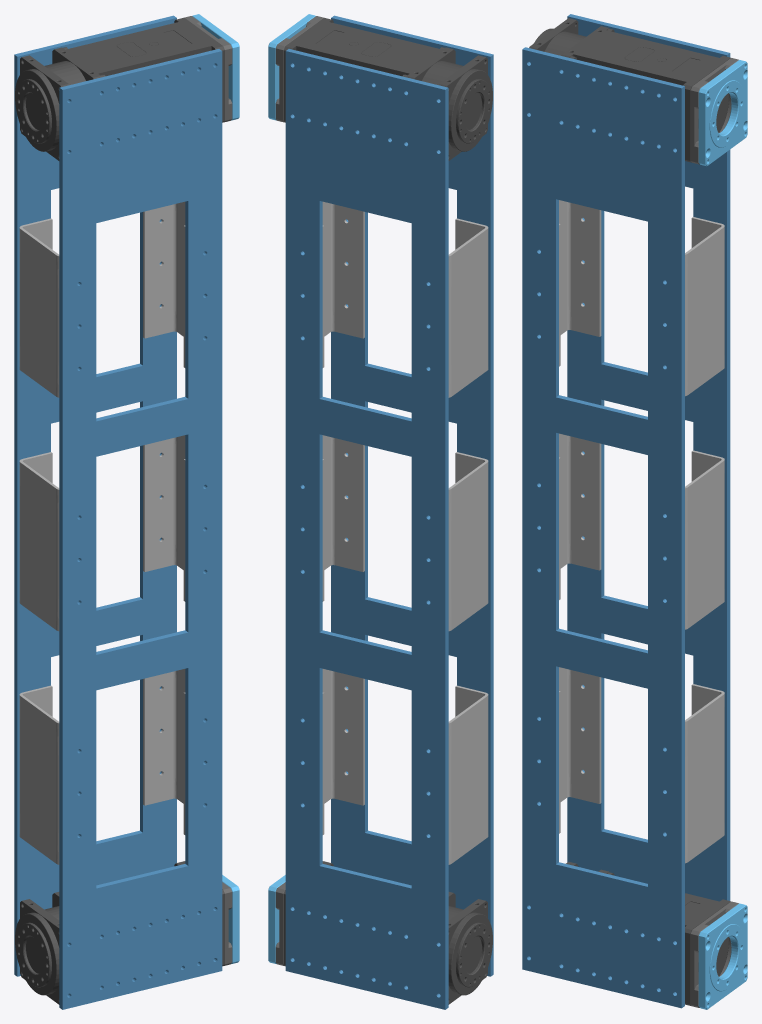
The model's file is first_link.obj.
The picture shows the model from 3 angles, left to right: view 1: azimuth 30°, elevation 25°; view 2: azimuth 150°, elevation 25°; view 3: azimuth 330°, elevation 25°; orthographic projection.
Visible parts, largest first — view 1: メッシュ フィーチャ1_1, メッシュ フィーチャ1_14, メッシュ フィーチャ1_4, メッシュ フィーチャ1_9, メッシュ フィーチャ1_13, メッシュ フィーチャ1_8, メッシュ フィーチャ1_10, メッシュ フィーチャ1_11, メッシュ フィーチャ1_12, メッシュ フィーチャ1_2, メッシュ フィーチャ1_3, メッシュ フィーチャ1_6 (+2 smaller); view 2: メッシュ フィーチャ1_14, メッシュ フィーチャ1_1, メッシュ フィーチャ1_4, メッシュ フィーチャ1_9, メッシュ フィーチャ1_13, メッシュ フィーチャ1_8, メッシュ フィーチャ1_10, メッシュ フィーチャ1_11, メッシュ フィーチャ1_12, メッシュ フィーチャ1_2, メッシュ フィーチャ1_3, メッシュ フィーチャ1_6 (+2 smaller); view 3: メッシュ フィーチャ1_1, メッシュ フィーチャ1_14, メッシュ フィーチャ1_4, メッシュ フィーチャ1_10, メッシュ フィーチャ1_11, メッシュ フィーチャ1_12, メッシュ フィーチャ1_13, メッシュ フィーチャ1_8, メッシュ フィーチャ1_9, メッシュ フィーチャ1_3, メッシュ フィーチャ1_6, メッシュ フィーチャ1_2 (+2 smaller).
Boxes of the visible parts, box(x1,y1,x2,y2) form: メッシュ フィーチャ1_1: box(59, 49, 222, 1009); メッシュ フィーチャ1_14: box(14, 15, 176, 976); メッシュ フィーチャ1_4: box(15, 17, 224, 160); メッシュ フィーチャ1_9: box(19, 218, 59, 397); メッシュ フィーチャ1_13: box(19, 452, 59, 631); メッシュ フィーチャ1_8: box(19, 685, 59, 864); メッシュ フィーチャ1_10: box(143, 435, 185, 601); メッシュ フィーチャ1_11: box(143, 201, 185, 367); メッシュ フィーチャ1_12: box(143, 669, 185, 834); メッシュ フィーチャ1_2: box(15, 861, 224, 1004); メッシュ フィーチャ1_3: box(192, 14, 239, 120); メッシュ フィーチャ1_6: box(222, 875, 239, 963); メッシュ フィーチャ1_14: box(285, 49, 448, 1009); メッシュ フィーチャ1_1: box(331, 15, 493, 976); メッシュ フィーチャ1_4: box(283, 17, 492, 160); メッシュ フィーチャ1_9: box(448, 218, 488, 397); メッシュ フィーチャ1_13: box(448, 452, 488, 631); メッシュ フィーチャ1_8: box(448, 685, 488, 864); メッシュ フィーチャ1_10: box(322, 435, 364, 601); メッシュ フィーチャ1_11: box(322, 201, 364, 367); メッシュ フィーチャ1_12: box(322, 669, 364, 834); メッシュ フィーチャ1_2: box(283, 861, 492, 1004); メッシュ フィーチャ1_3: box(268, 14, 315, 120); メッシュ フィーチャ1_6: box(268, 875, 285, 963); メッシュ フィーチャ1_1: box(522, 47, 684, 1008); メッシュ フィーチャ1_14: box(567, 14, 730, 901); メッシュ フィーチャ1_4: box(529, 18, 730, 162); メッシュ フィーチャ1_10: box(685, 450, 724, 629); メッシュ フィーチャ1_11: box(685, 217, 724, 396); メッシュ フィーチャ1_12: box(685, 684, 724, 863); メッシュ フィーチャ1_13: box(559, 433, 601, 599); メッシュ フィーチャ1_8: box(559, 667, 601, 833); メッシュ フィーチャ1_9: box(559, 200, 601, 366); メッシュ フィーチャ1_3: box(698, 60, 747, 166); メッシュ フィーチャ1_6: box(698, 903, 747, 1009); メッシュ フィーチャ1_2: box(566, 861, 730, 1006).
Bounding box in the file's own units: 138 × 650 × 62.
